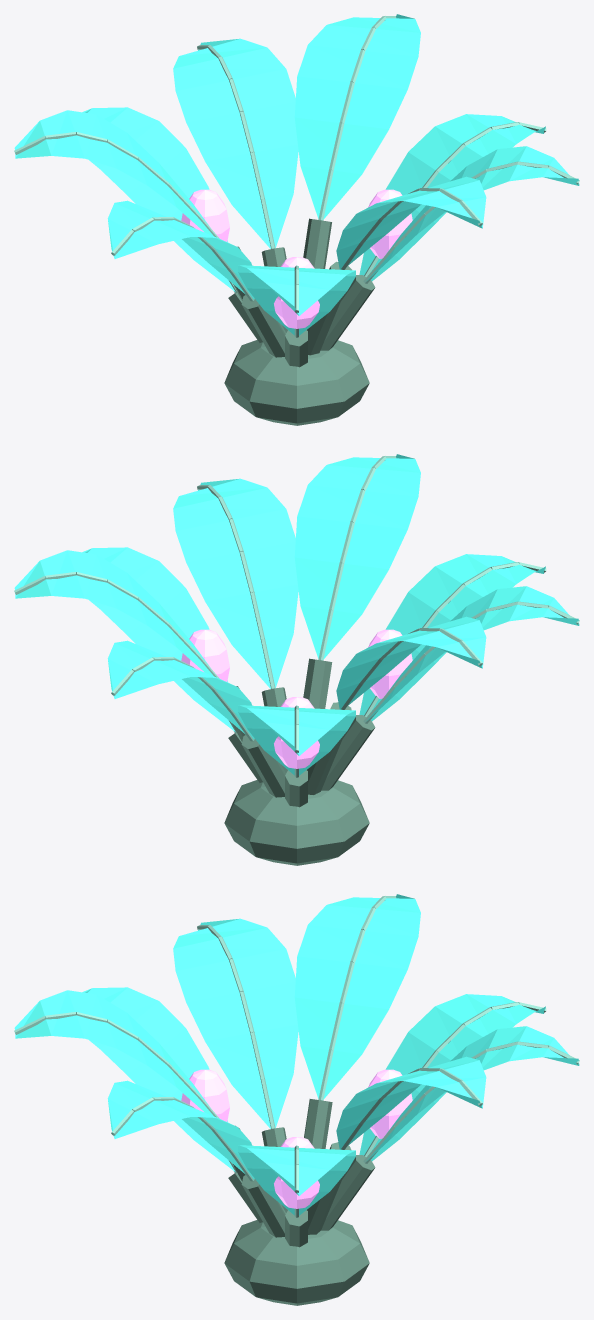
Rendered from aquaglow-ready-for-transplant.glb.
3 views of the same model, one above another, from view 1: azimuth 30°, elevation 25°; view 2: azimuth 150°, elevation 25°; view 3: azimuth 270°, elevation 25° (orthographic).
Parts seen in each view (by area): view 1: aquaglow.sway-pivot; view 2: aquaglow.sway-pivot; view 3: aquaglow.sway-pivot.
Part boxes in pixels (x1,y1,x2,y2): aquaglow.sway-pivot: (14,14,579,425); aquaglow.sway-pivot: (14,454,579,865); aquaglow.sway-pivot: (14,894,579,1305).
Bounding box in the file's own units: 1.3 × 0.776 × 1.32.
